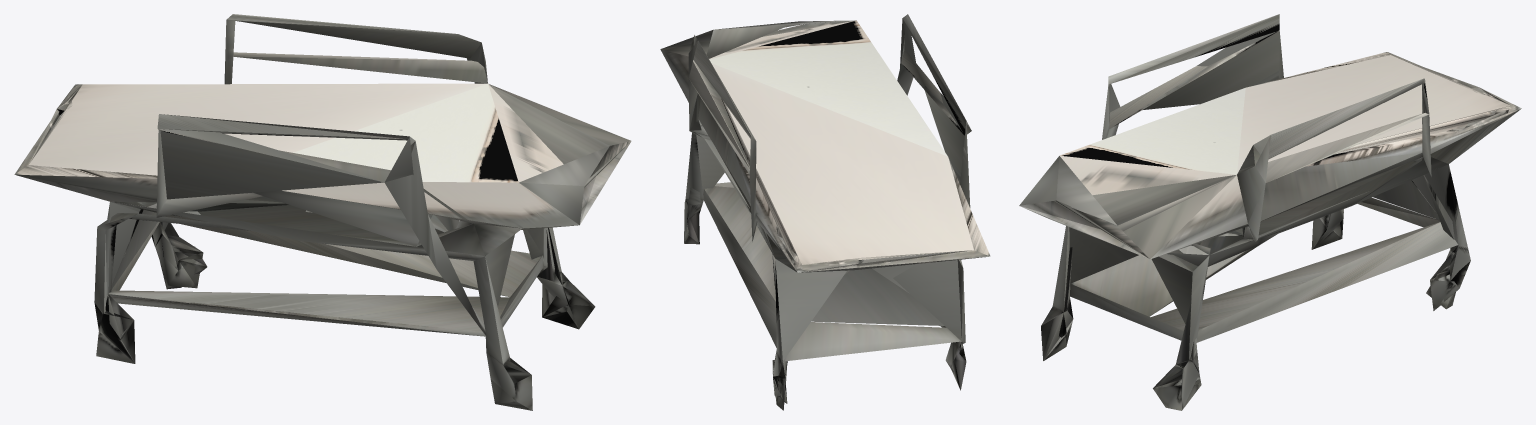
3 views of the same model, side by side, from view 1: azimuth 30°, elevation 25°; view 2: azimuth 150°, elevation 25°; view 3: azimuth 270°, elevation 25° (orthographic). The views are drawn at different scales.
Visible parts, largest first — view 1: repaired; view 2: repaired; view 3: repaired.
Boxes of the visible parts, x1,y1,x2,y2 form: repaired: (14, 14, 631, 410); repaired: (660, 14, 990, 410); repaired: (1019, 14, 1521, 410).
Size of the model in its own units: 0.999 by 0.551 by 0.9792.
